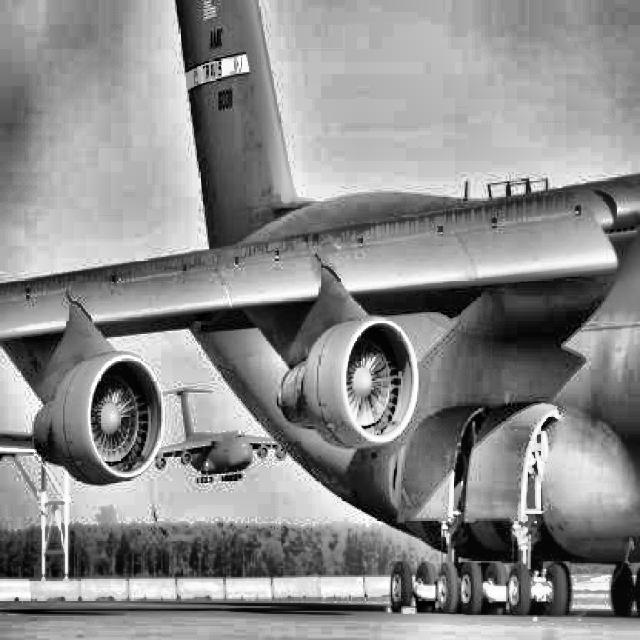C5: (0, 0, 640, 620), (155, 386, 287, 485)
